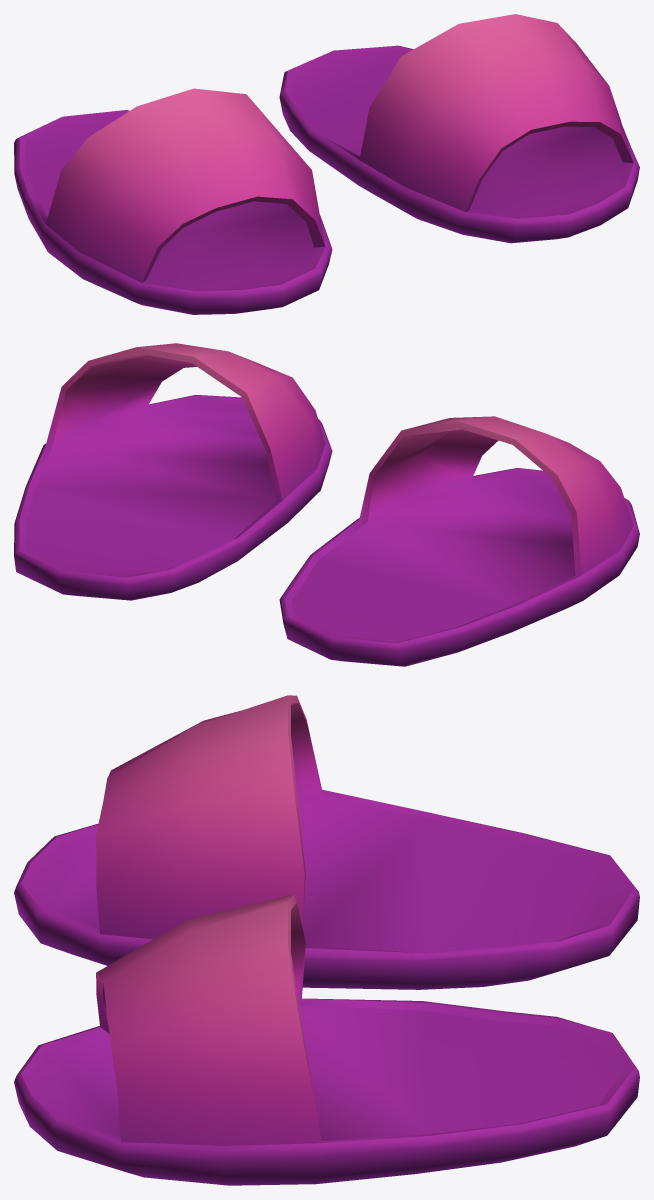
File: Shoe_Slippers_01.glb
The picture shows the model from 3 angles, top to bottom: view 1: azimuth 30°, elevation 25°; view 2: azimuth 150°, elevation 25°; view 3: azimuth 270°, elevation 25°; orthographic projection. The views are drawn at different scales.
Visible parts, largest first — view 1: Shoe_Slippers_01; view 2: Shoe_Slippers_01; view 3: Shoe_Slippers_01.
Part boxes in pixels (bbox=[...]): Shoe_Slippers_01: bbox=[14, 14, 639, 314]; Shoe_Slippers_01: bbox=[14, 343, 639, 666]; Shoe_Slippers_01: bbox=[14, 695, 639, 1185].
Bounding box in the file's own units: 0.2502 × 0.0677 × 0.1833.
Materials: 1 (1 with a texture image).
